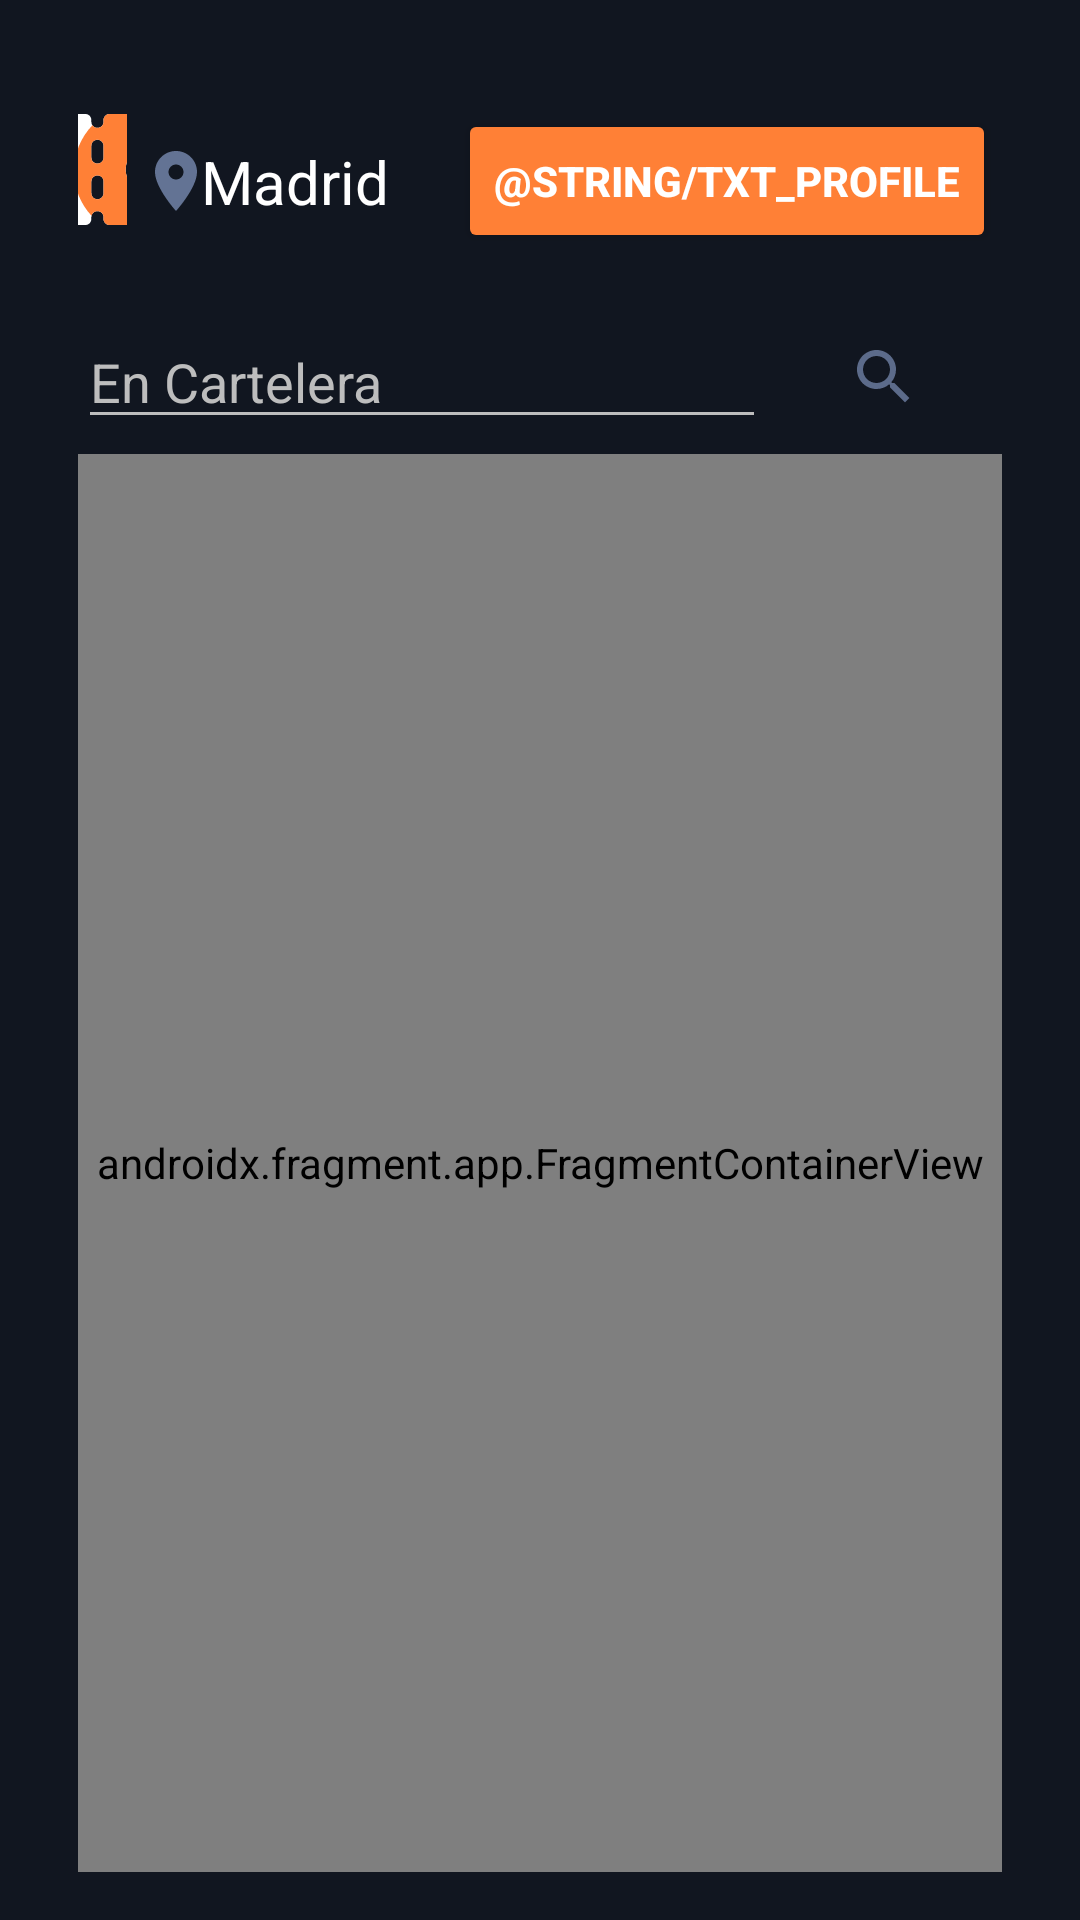

Screen size 1080 x 1920. Icon name, then its center in pixels as [x,y]:
location: [176,181]
search movie: [883,376]
